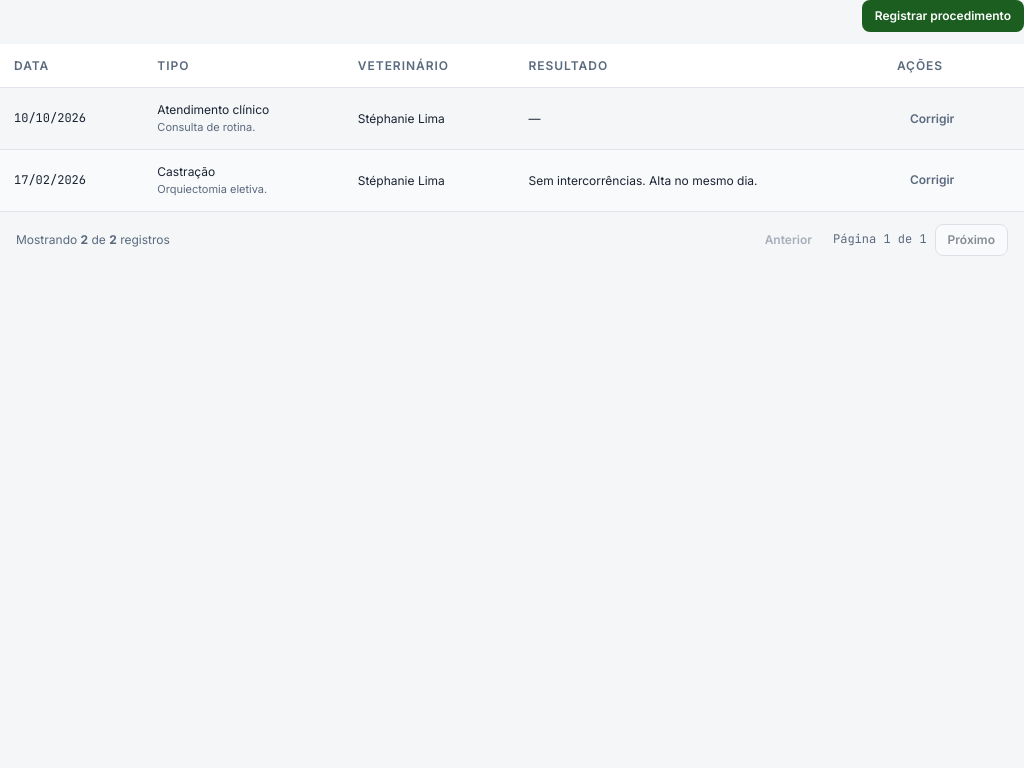
Test: ModalRegistrarProcedimento › exige tipo de procedimento e data
The width and height of the screenshot is (1024, 768).
expect the text "Castração" is shown: met, box [157, 164, 215, 179]
Click the button "Registrar procedimento": {"x": 943, "y": 16} [862, 0, 1023, 32]
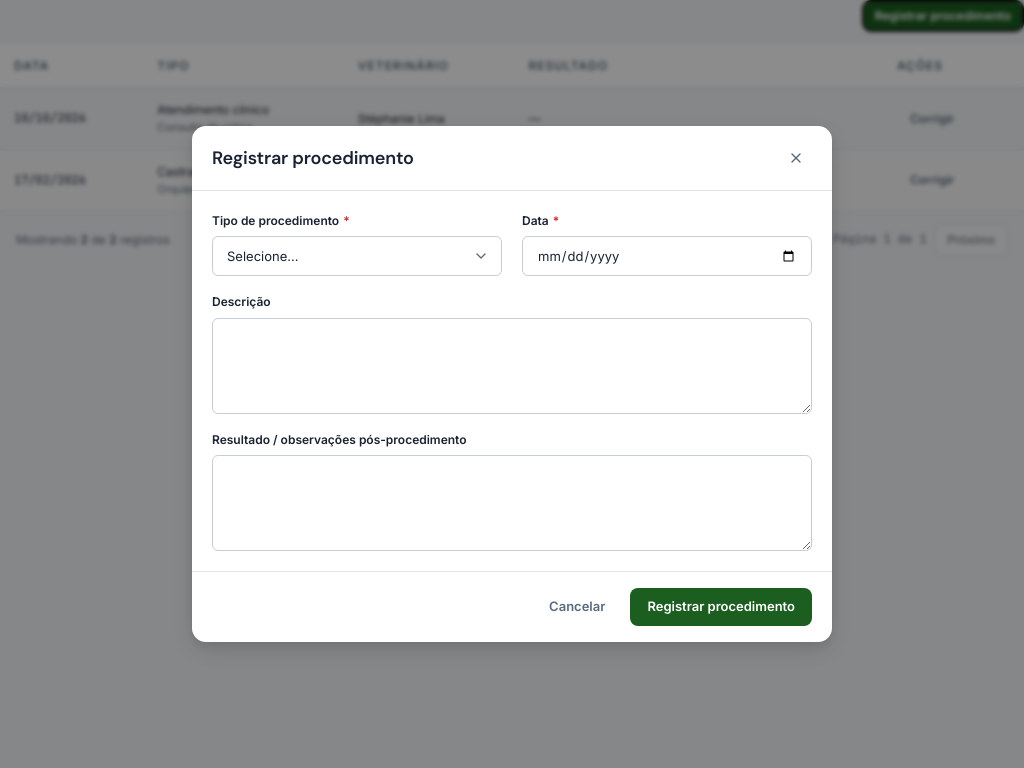
Click the button "Registrar procedimento": {"x": 721, "y": 607} [630, 588, 812, 626]
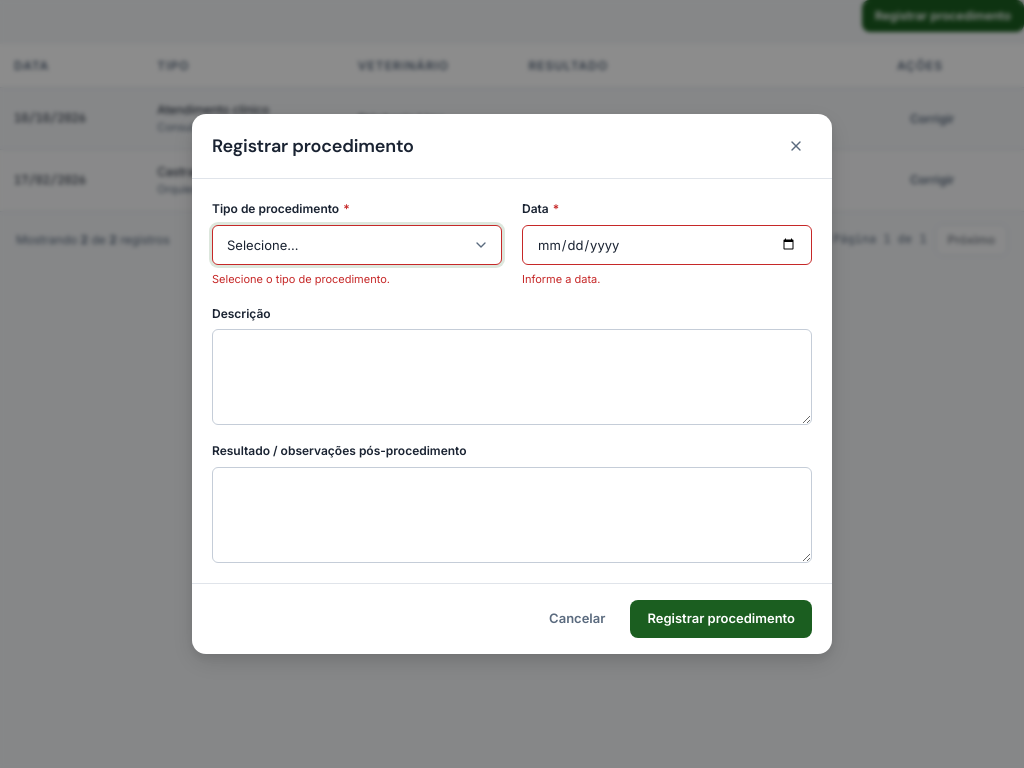
expect the text "Selecione o tipo de procedimento." is shown: met, box [212, 272, 390, 286]
expect the text "Informe a data." is shown: met, box [522, 272, 600, 286]
